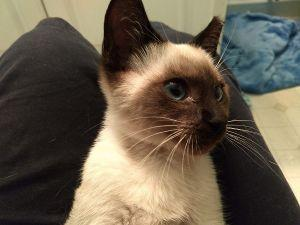siamese: (94, 1, 244, 169)
